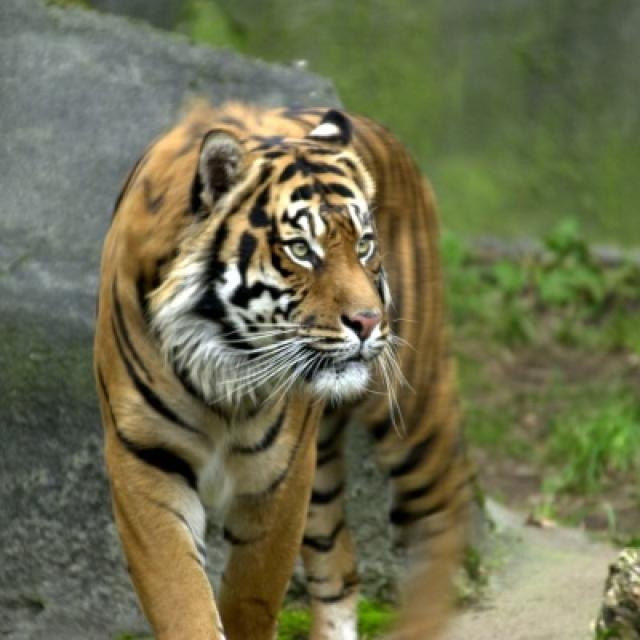Tiger: (96, 103, 476, 638)
